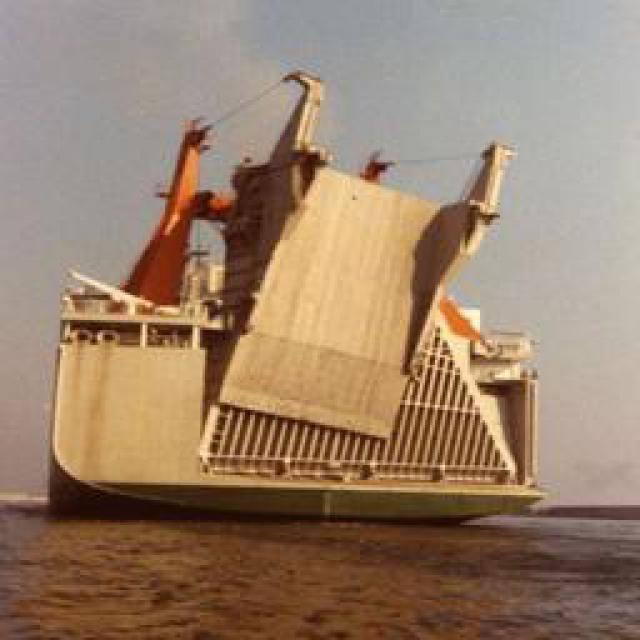Ship: (49, 87, 574, 537)
